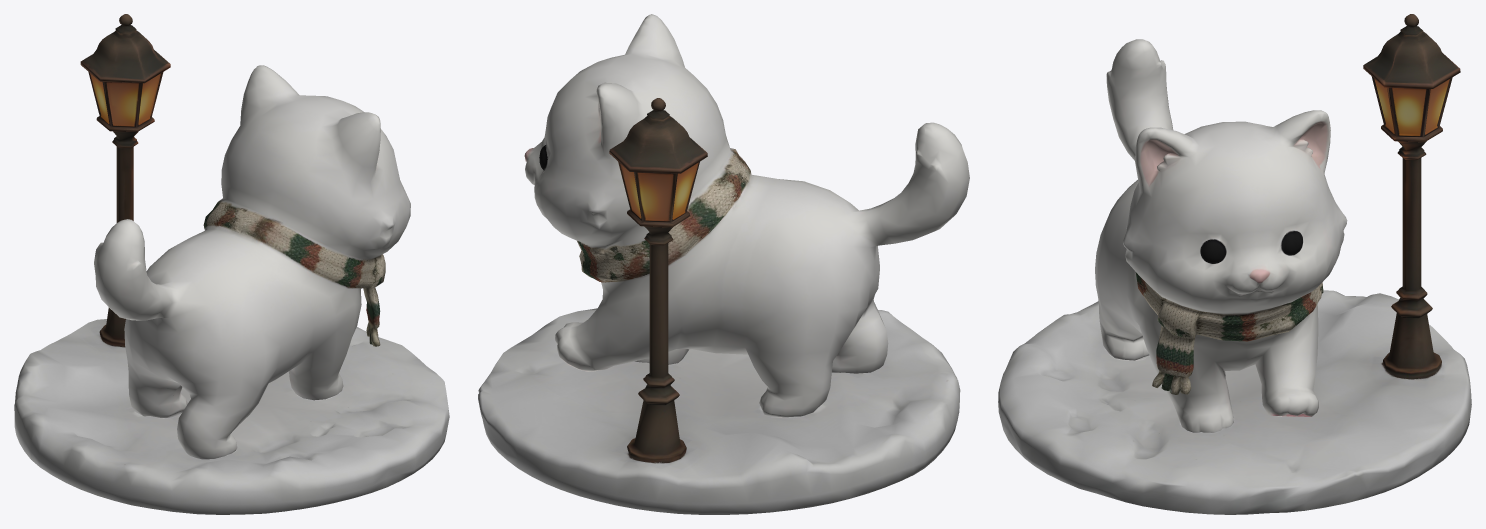
File: figurine-v2-streetlight-cat.glb
3 renders of one model, left to right at view 1: azimuth 30°, elevation 25°; view 2: azimuth 150°, elevation 25°; view 3: azimuth 270°, elevation 25°, orthographic. The views are drawn at different scales.
Visible parts, largest first — view 1: tripo_node_179b2292-046d-44d0-9f1b-519241b8a10a; view 2: tripo_node_179b2292-046d-44d0-9f1b-519241b8a10a; view 3: tripo_node_179b2292-046d-44d0-9f1b-519241b8a10a.
Boxes of the visible parts, box(x1,y1,x2,y2) form: tripo_node_179b2292-046d-44d0-9f1b-519241b8a10a: box(14, 14, 449, 514); tripo_node_179b2292-046d-44d0-9f1b-519241b8a10a: box(478, 14, 969, 514); tripo_node_179b2292-046d-44d0-9f1b-519241b8a10a: box(998, 14, 1471, 514).
Bounding box in the file's own units: 0.9979 × 0.9087 × 1.
Materials: 1 (1 with a texture image).
